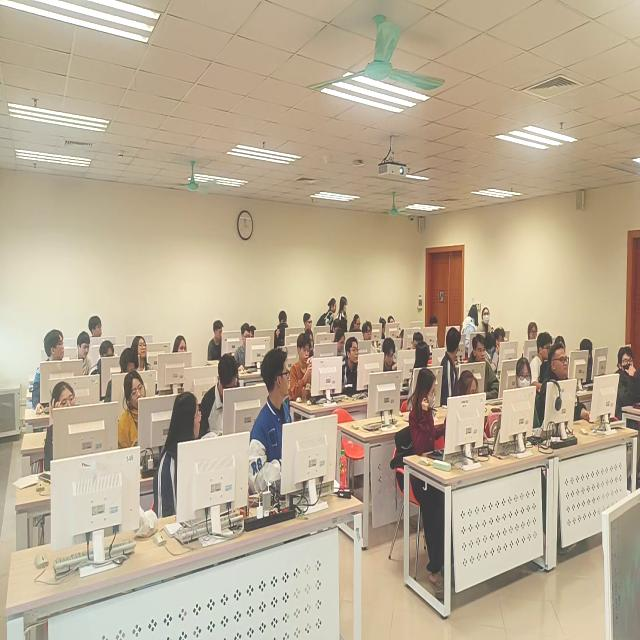raise_head: (44, 382, 77, 472), (539, 345, 574, 427), (118, 370, 147, 450), (468, 335, 500, 400), (614, 347, 639, 414), (344, 338, 361, 396), (133, 336, 152, 371), (173, 335, 189, 354), (495, 329, 507, 354), (528, 323, 539, 343), (363, 322, 373, 342)
stand: (462, 305, 480, 352), (318, 298, 338, 335), (480, 309, 494, 347), (338, 296, 349, 335)
using_computer: (202, 355, 241, 436), (105, 349, 139, 404), (530, 333, 553, 388), (92, 341, 115, 378), (236, 323, 251, 375), (485, 337, 501, 377), (208, 322, 224, 361), (516, 358, 534, 392), (457, 370, 479, 395), (275, 311, 289, 350), (383, 338, 399, 372), (430, 315, 442, 349), (335, 332, 346, 359), (350, 315, 363, 332), (413, 332, 425, 349), (305, 312, 314, 331), (333, 319, 343, 334), (250, 325, 257, 338)
using_phone: (290, 333, 313, 403)
